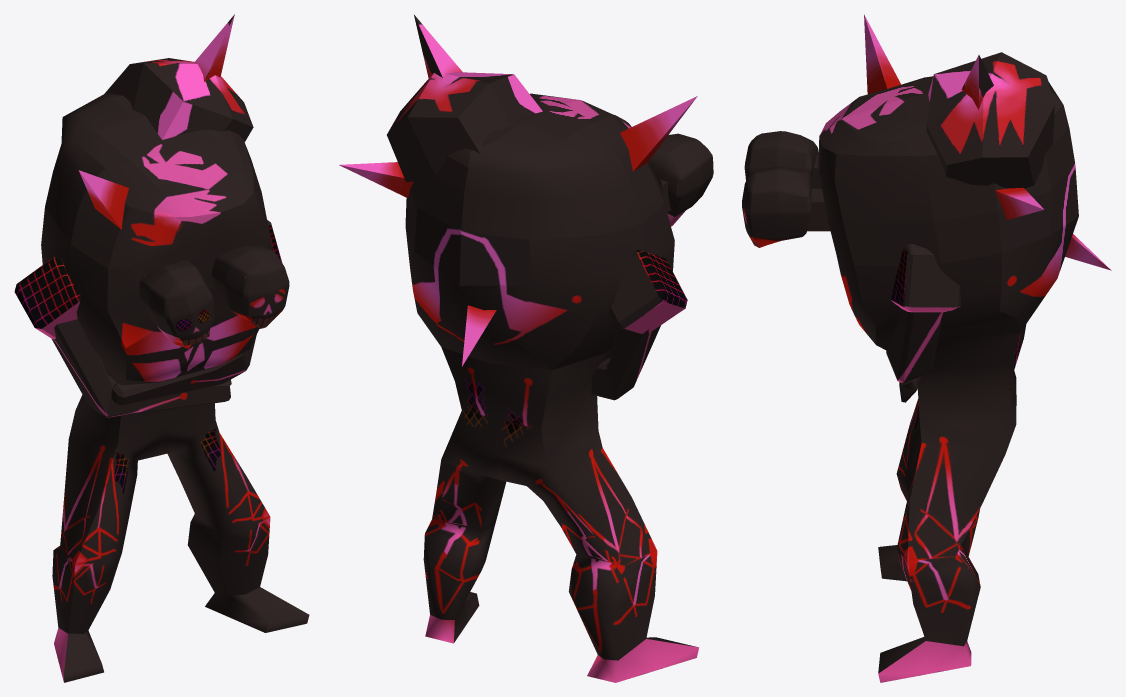
File: Spill 1.fbx
3 views of the same model, side by side, from view 1: azimuth 30°, elevation 25°; view 2: azimuth 150°, elevation 25°; view 3: azimuth 270°, elevation 25° (orthographic). The views are drawn at different scales.
Visible parts, largest first — view 1: Spill; view 2: Spill; view 3: Spill.
Part boxes in pixels (x1,y1,x2,y2): Spill: (14, 14, 309, 682); Spill: (339, 15, 713, 682); Spill: (742, 14, 1111, 682).
Size of the model in its own units: 1.19 by 2.49 by 1.35.
1 material, 1 textured.
